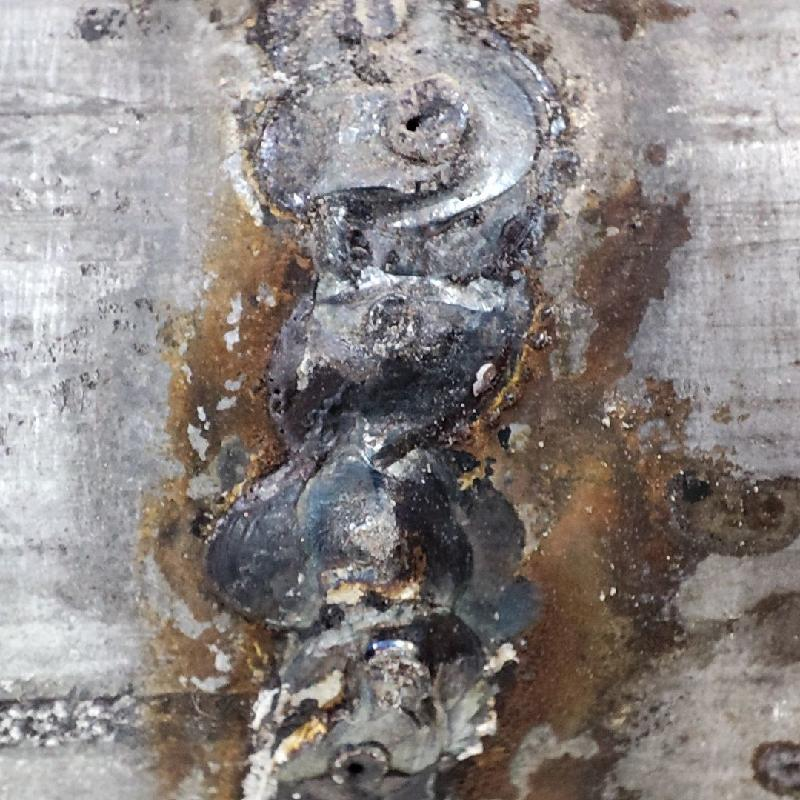Not_fully_soldered: (244, 1, 564, 272)
Surface_pores: (393, 90, 446, 152)
wrong_size: (232, 273, 532, 797)
